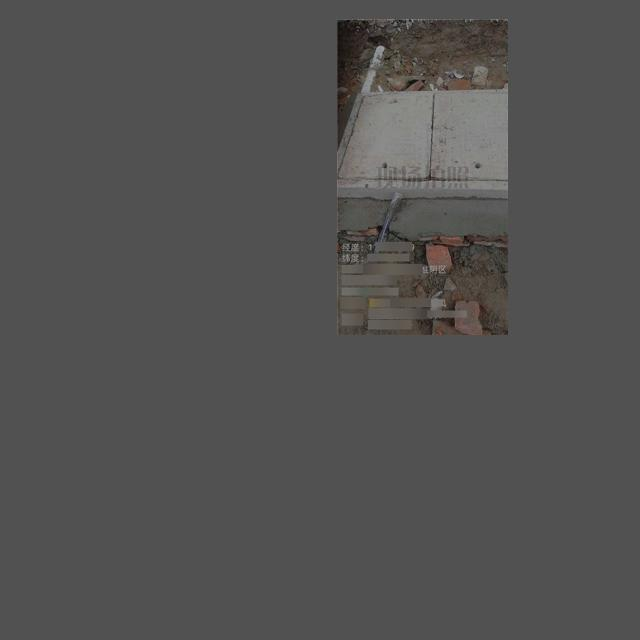good: (337, 88, 508, 197)
